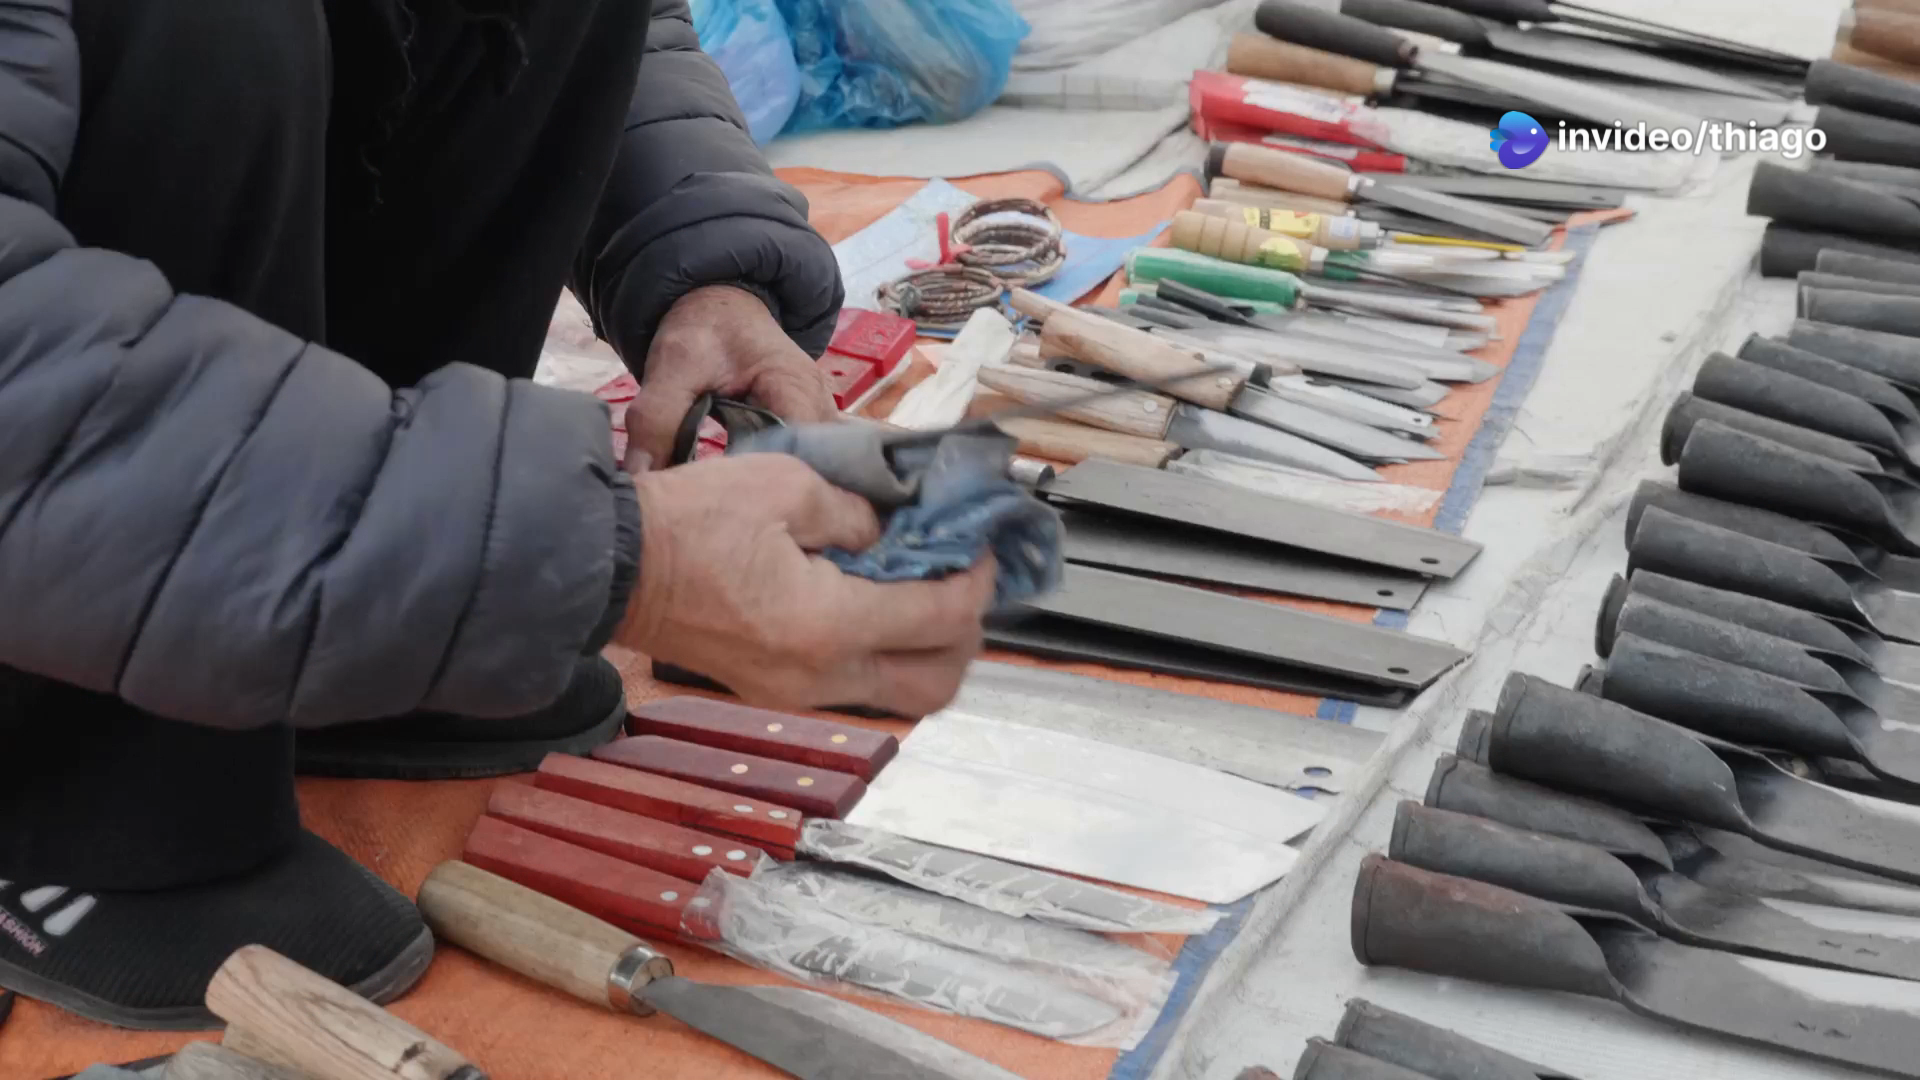cortante: (1043, 455, 1484, 624), (1005, 558, 1473, 713), (707, 891, 1167, 1040), (873, 748, 1317, 898), (811, 812, 1292, 931), (919, 708, 1353, 833), (634, 965, 1048, 1080), (762, 853, 1216, 947), (1669, 935, 1920, 1076), (1399, 111, 1691, 200), (1444, 53, 1796, 123), (1179, 404, 1439, 488), (1226, 310, 1429, 396), (1553, 8, 1808, 75), (1717, 852, 1920, 927), (1374, 174, 1572, 235), (1324, 282, 1489, 338), (1381, 252, 1567, 299)
